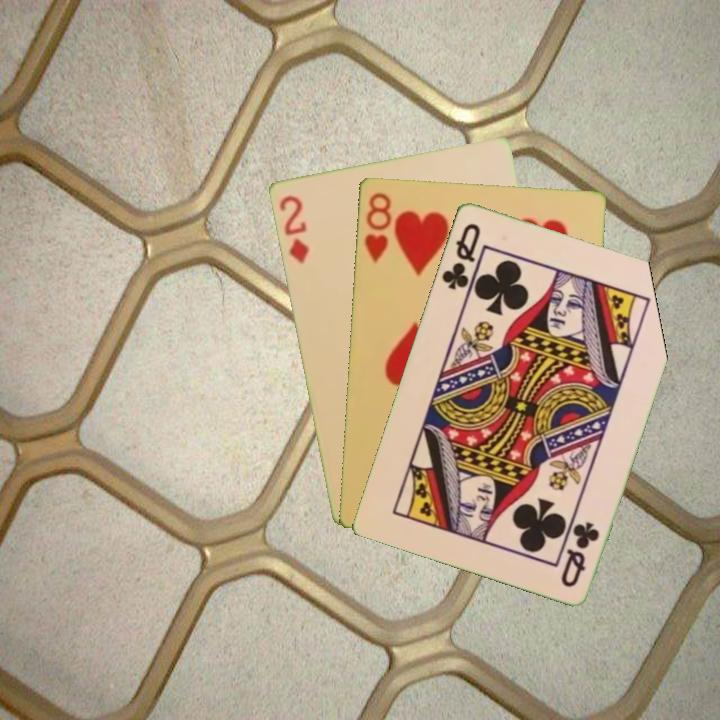2d: (275, 191, 312, 267)
8h: (360, 189, 394, 265)
Qc: (437, 219, 483, 292), (557, 517, 602, 590)
